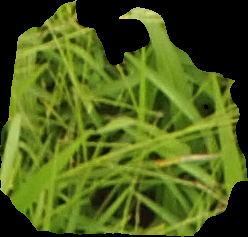grass: (1, 1, 247, 237)
